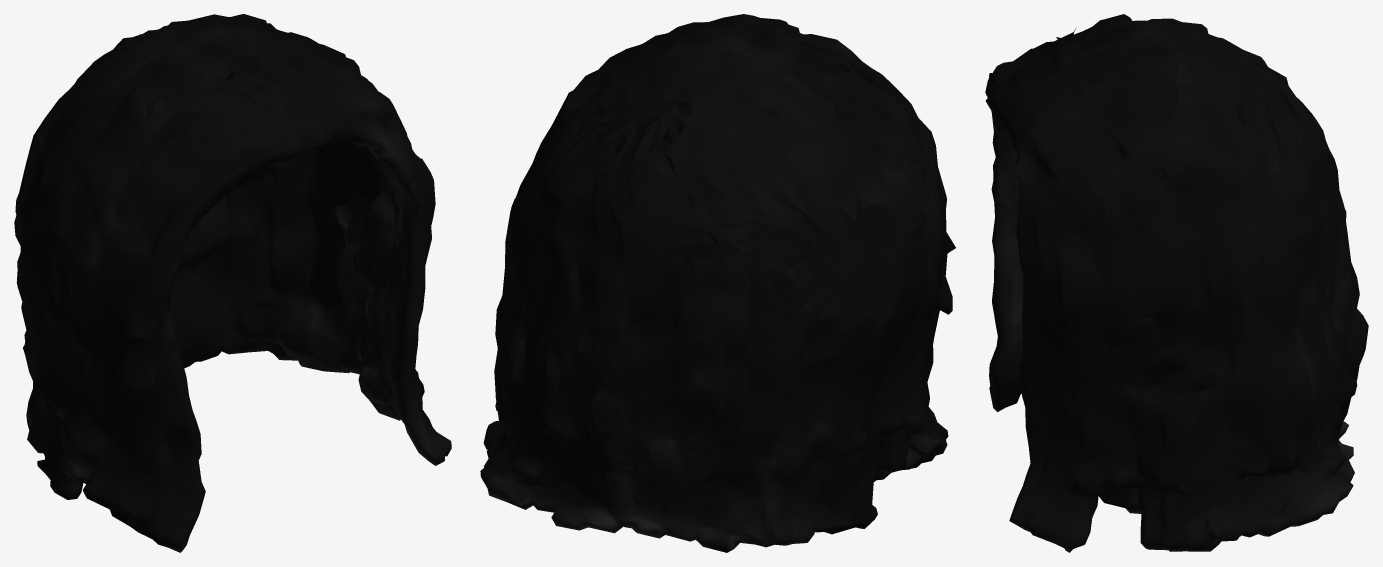
Rendered from long hair black.glb.
3 renders of one model, left to right at view 1: azimuth 30°, elevation 25°; view 2: azimuth 150°, elevation 25°; view 3: azimuth 270°, elevation 25°, orthographic. The views are drawn at different scales.
Parts seen in each view (by area): view 1: hair_long_dark.001; view 2: hair_long_dark.001; view 3: hair_long_dark.001.
Part boxes in pixels (bbox=[...]): hair_long_dark.001: bbox=[14, 14, 451, 552]; hair_long_dark.001: bbox=[480, 14, 956, 552]; hair_long_dark.001: bbox=[985, 14, 1368, 552].
Bounding box in the file's own units: 0.376 × 0.4086 × 0.3271.
1 material, 1 textured.
